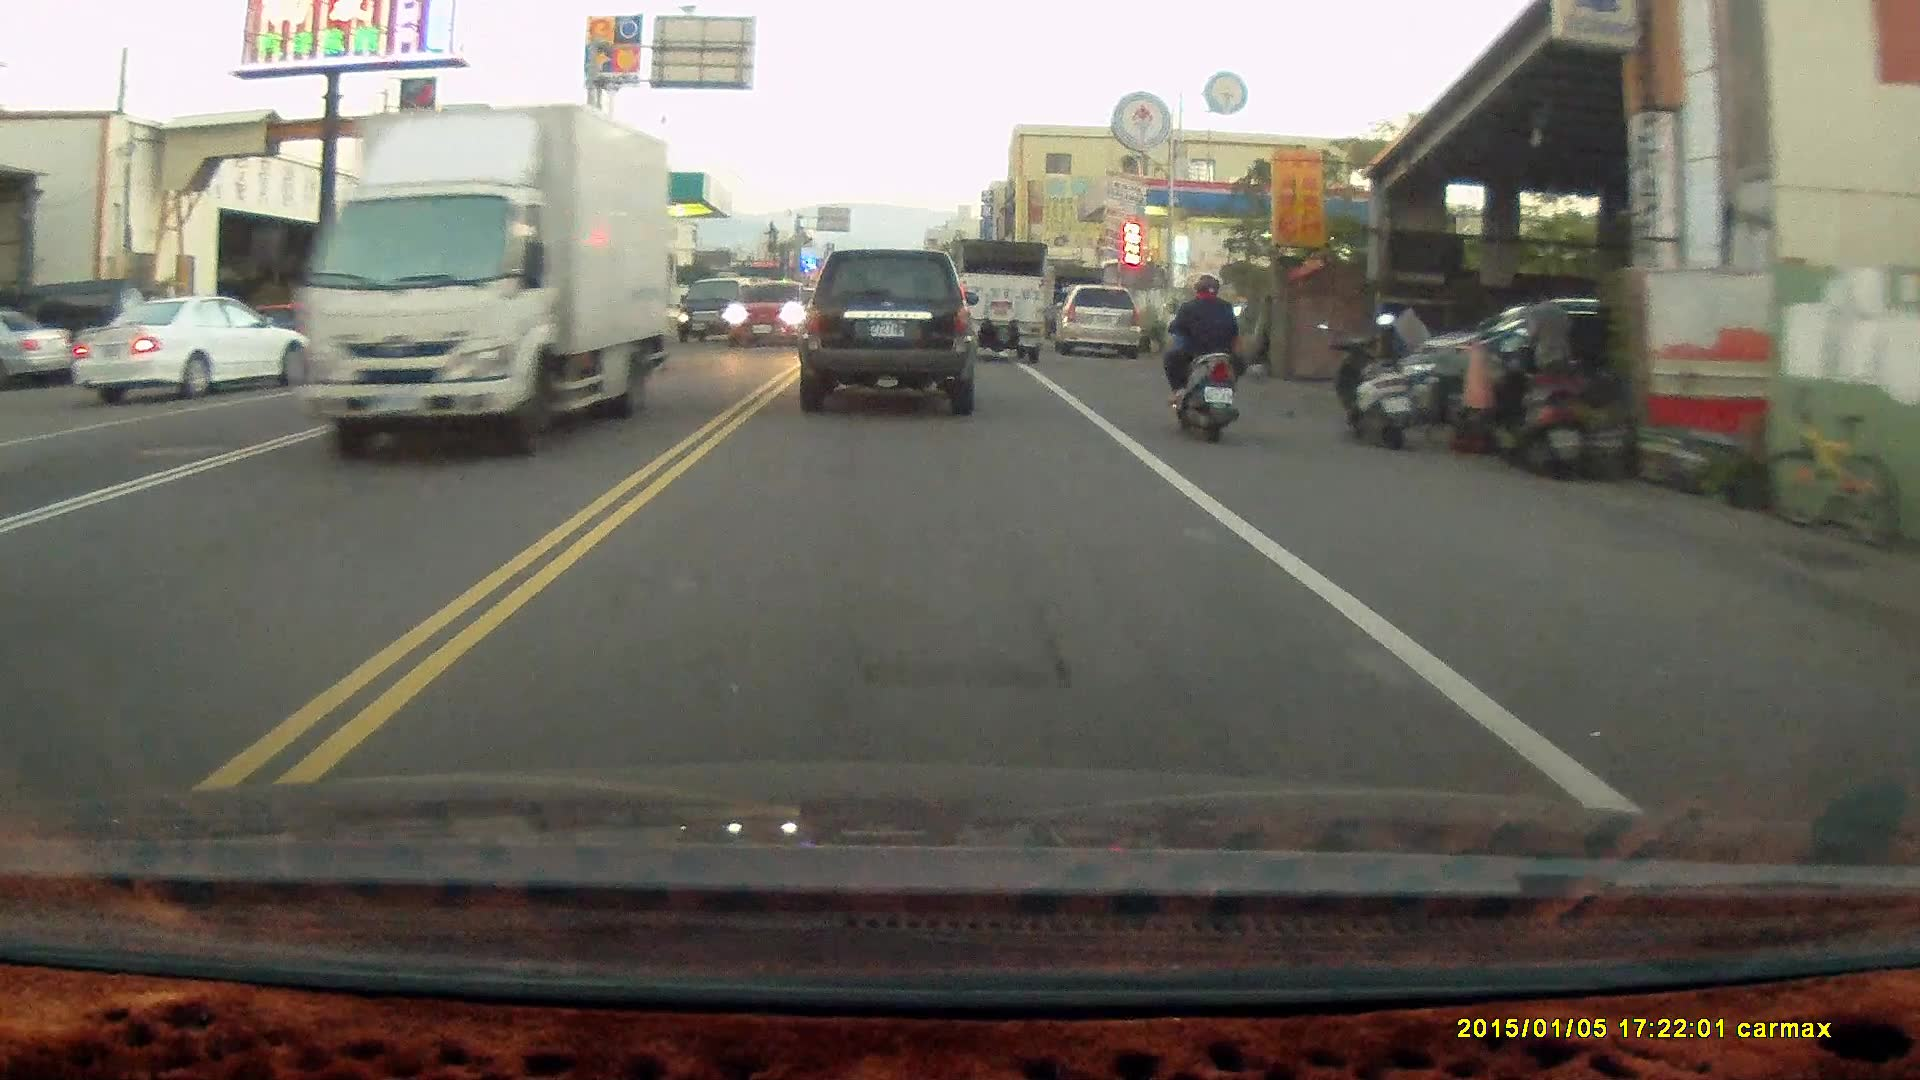pedestrian: (1520, 280, 1571, 420)
rider: (1156, 272, 1244, 445)
vehicle: (294, 99, 675, 460), (794, 247, 979, 418), (76, 299, 288, 404), (955, 237, 1048, 363), (1, 304, 83, 387), (722, 282, 815, 353), (1058, 284, 1140, 361)
